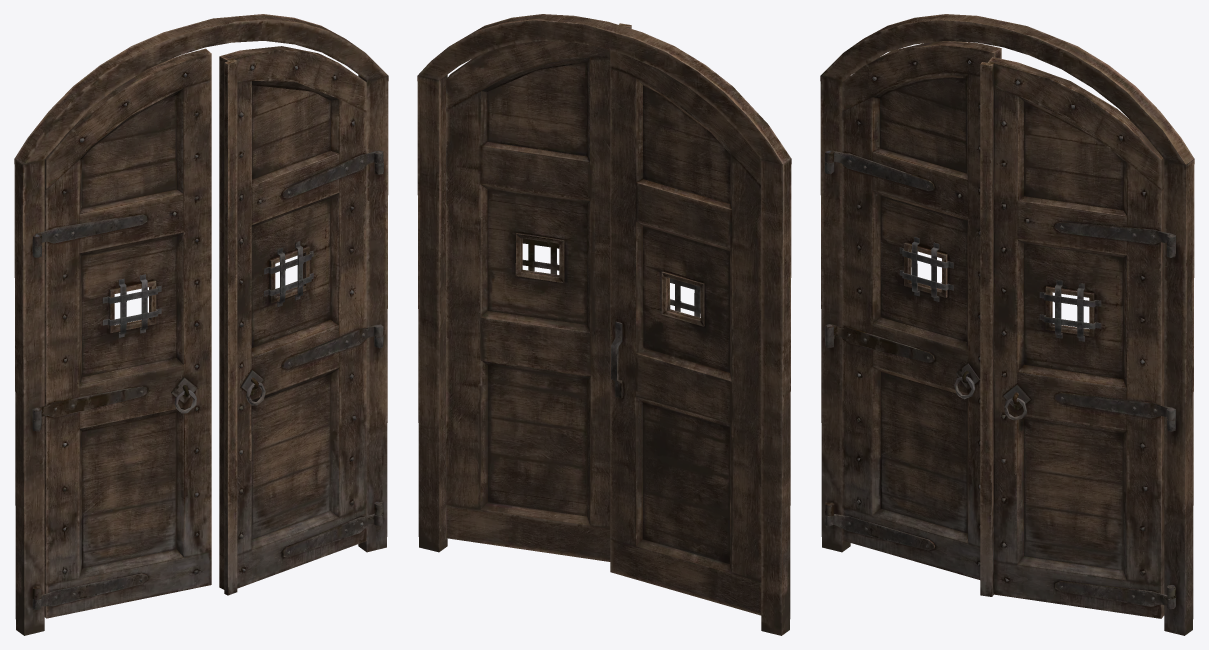
Rendered from large_castle_door.glb.
The picture shows the model from 3 angles, left to right: view 1: azimuth 30°, elevation 25°; view 2: azimuth 150°, elevation 25°; view 3: azimuth 330°, elevation 25°; orthographic projection.
Visible parts, largest first — view 1: large_castle_door_frame; view 2: large_castle_door_frame; view 3: large_castle_door_frame.
Boxes of the visible parts, bbox=[...] form: large_castle_door_frame: bbox=[14, 14, 388, 635]; large_castle_door_frame: bbox=[417, 14, 791, 635]; large_castle_door_frame: bbox=[820, 14, 1194, 635].
Size of the model in its own units: 2.01 by 2.96 by 0.2964.
1 material, 1 textured.
